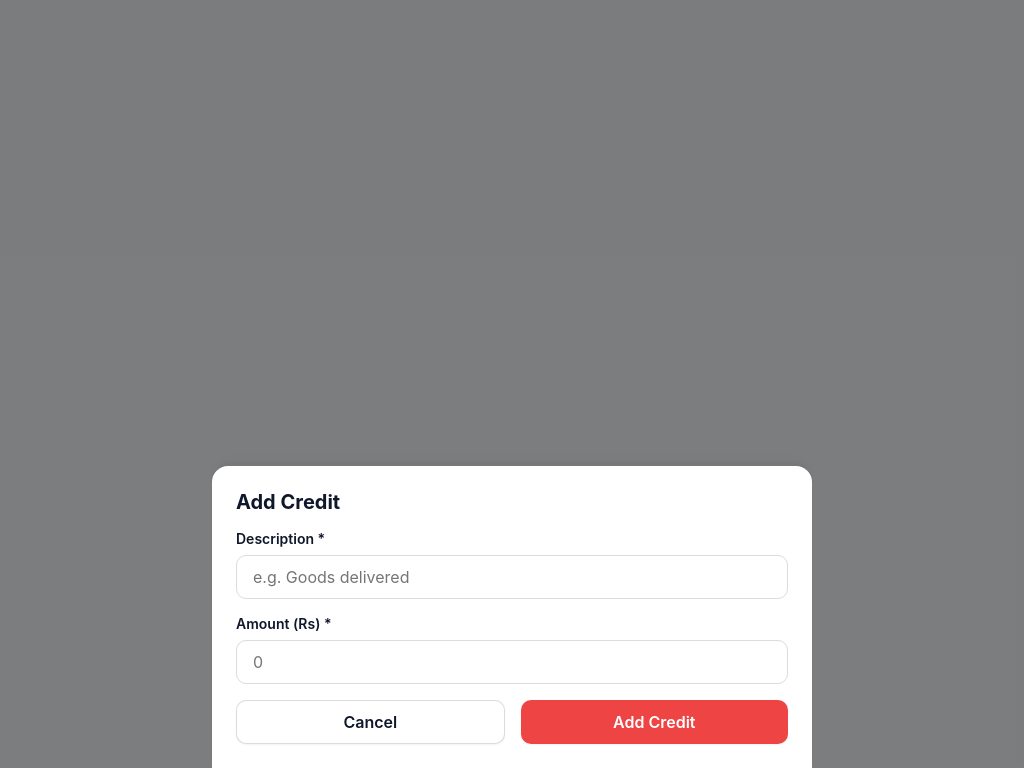
it: AddCreditForm › Validation › shows validation error when amount is negative
Step 1. Type "Test credit" into the field labelled "Description *" → (512, 577), box [236,555,788,599]
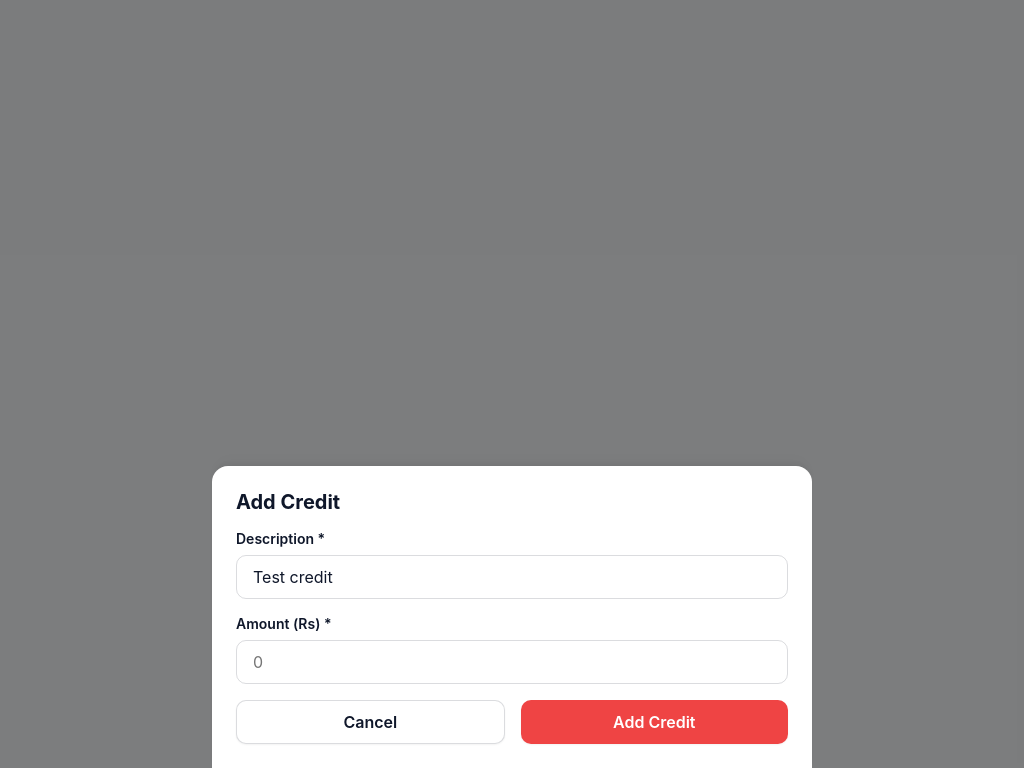
Step 2. Type "-50" into the number field labelled "Amount (Rs) *" → (512, 662), box [236,640,788,684]
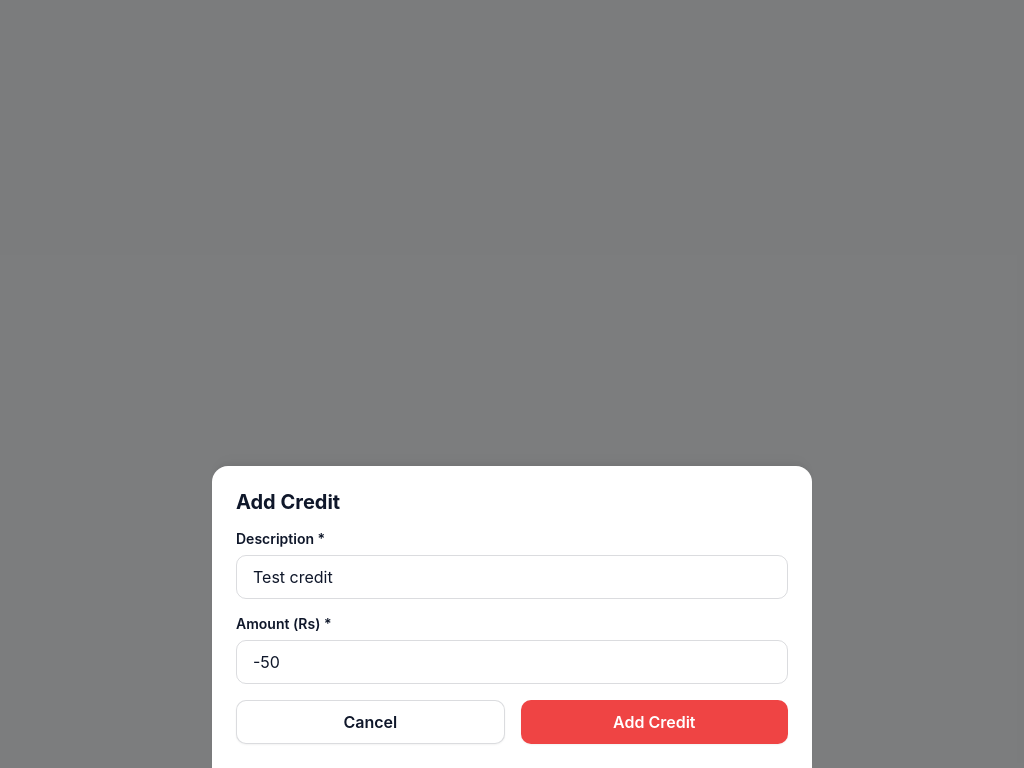
Step 3. Click the button "Add Credit" → (654, 722), box [520,700,788,744]
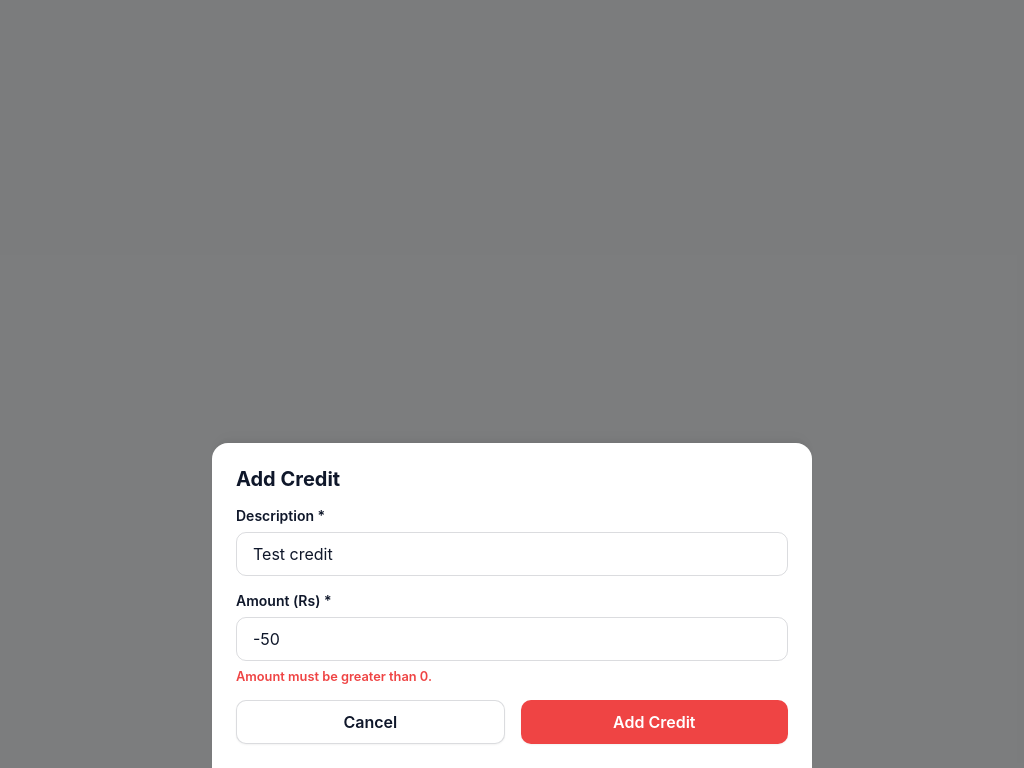
expect the text "Amount must be greater than 0." is shown: met, box [236,669,432,684]
